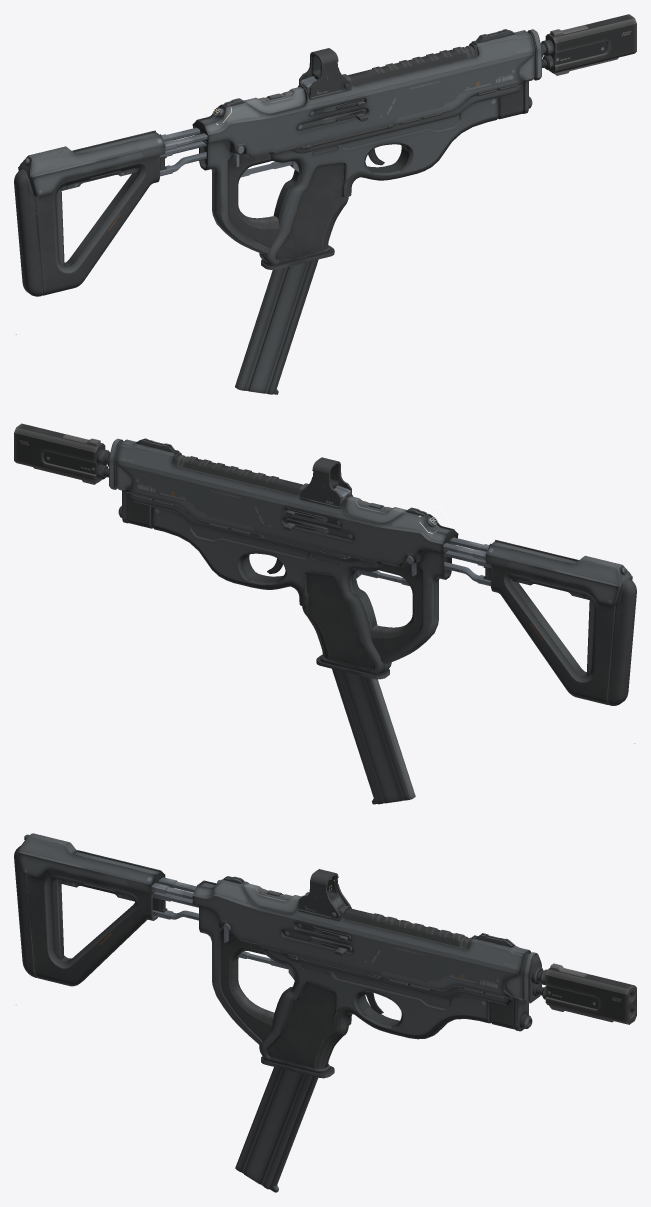
The model's file is sci-fi_smg_gun_-_free.glb.
The picture shows the model from 3 angles, top to bottom: view 1: azimuth 30°, elevation 25°; view 2: azimuth 150°, elevation 25°; view 3: azimuth 330°, elevation 25°; orthographic projection.
Parts seen in each view (by area): view 1: Plane.010, Plane.011, Cube.053, Cube.049, Plane.016, Slice.003, Cube.047, Cube.043, Plane.017, Plane.013, Slice.002, Cube.062 (+4 smaller); view 2: Plane.010, Plane.011, Cube.053, Cube.049, Plane.016, Slice.003, Cube.047, Cube.043, Plane.017, Plane.013, Slice.002, Cube.062 (+4 smaller); view 3: Plane.010, Plane.011, Cube.053, Cube.049, Plane.016, Slice.003, Cube.047, Plane.017, Plane.013, Cube.043, Slice.002, Cube.062 (+4 smaller).
Boxes of the visible parts, left/top/right/bottom form: Plane.010: left=192, top=30, right=533, bottom=157; Plane.011: left=259, top=80, right=528, bottom=269; Cube.053: left=14, top=155, right=159, bottom=296; Cube.049: left=235, top=259, right=318, bottom=394; Plane.016: left=18, top=130, right=165, bottom=196; Slice.003: left=276, top=163, right=348, bottom=260; Cube.047: left=545, top=14, right=636, bottom=73; Cube.043: left=199, top=140, right=270, bottom=254; Plane.017: left=228, top=153, right=279, bottom=248; Plane.013: left=348, top=43, right=478, bottom=85; Slice.002: left=291, top=84, right=522, bottom=153; Cube.062: left=299, top=48, right=350, bottom=97; Plane.010: left=117, top=439, right=458, bottom=566; Plane.011: left=122, top=490, right=391, bottom=679; Cube.053: left=491, top=564, right=636, bottom=705; Cube.049: left=332, top=669, right=415, bottom=804; Plane.016: left=485, top=540, right=632, bottom=605; Slice.003: left=302, top=573, right=374, bottom=669; Cube.047: left=14, top=423, right=105, bottom=482; Cube.043: left=380, top=549, right=451, bottom=663; Plane.017: left=371, top=563, right=422, bottom=657; Plane.013: left=172, top=452, right=302, bottom=494; Slice.002: left=128, top=493, right=359, bottom=562; Cube.062: left=300, top=457, right=351, bottom=506; Plane.010: left=192, top=877, right=531, bottom=999; Plane.011: left=259, top=948, right=528, bottom=1078; Cube.053: left=14, top=846, right=157, bottom=986; Cube.049: left=235, top=1067, right=318, bottom=1192; Plane.016: left=18, top=833, right=165, bottom=893; Slice.003: left=268, top=982, right=348, bottom=1068; Cube.047: left=545, top=968, right=636, bottom=1024; Plane.017: left=221, top=931, right=274, bottom=1040; Plane.013: left=343, top=908, right=472, bottom=948; Cube.043: left=199, top=906, right=262, bottom=1044; Slice.002: left=281, top=952, right=511, bottom=1005; Cube.062: left=299, top=869, right=350, bottom=918.
Size of the model in its own units: 54.44 by 27.88 by 4.
Materials: 2 (1 with a texture image).
